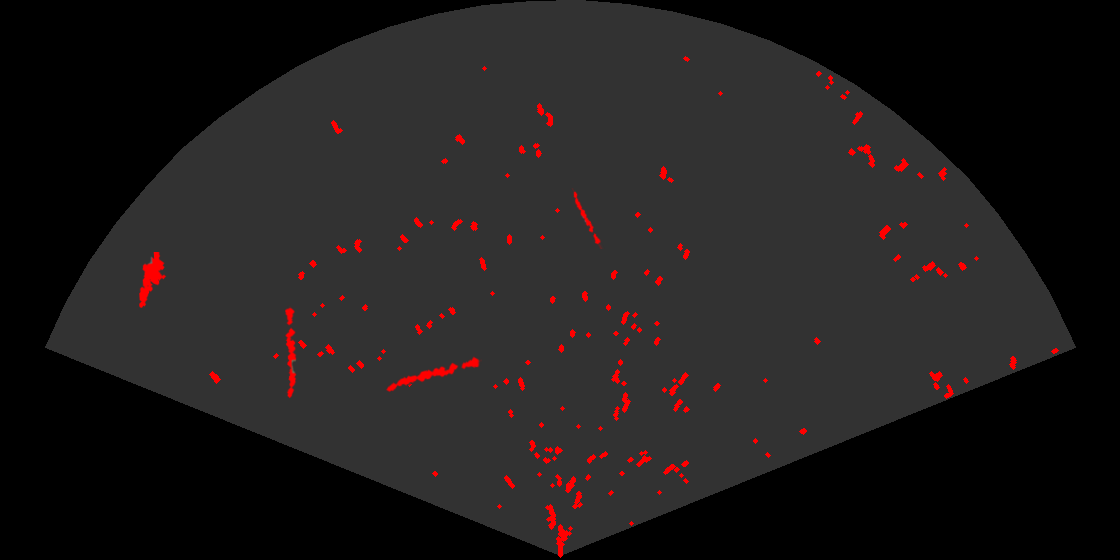chain: (384, 355, 482, 394), (570, 188, 605, 249), (284, 306, 298, 399)
frogman: (137, 252, 168, 308)
